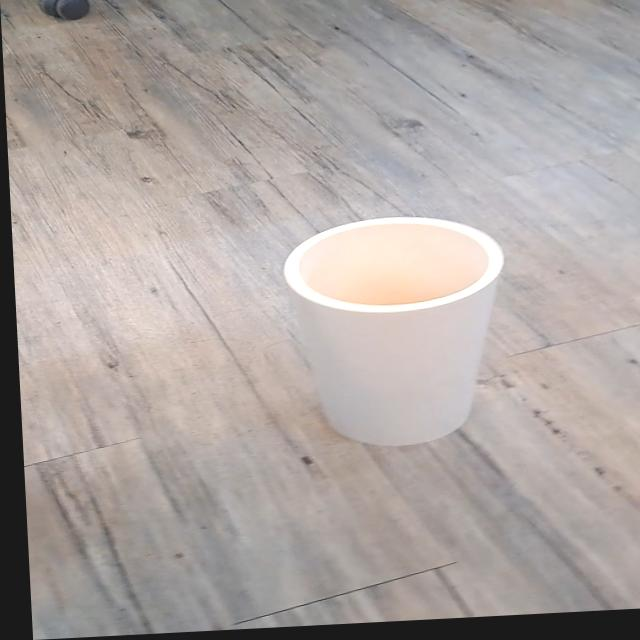CORAL: (248, 182, 540, 497)
